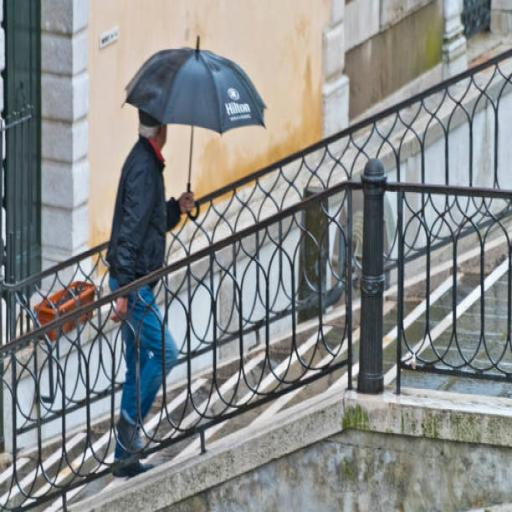guarda_chuva: (120, 34, 267, 218)
